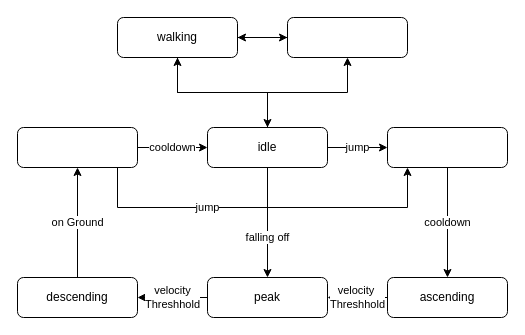
The diagram is 525 pixels wide and 335 high, and some of its shapes have lost their labels. The shapes that lost their labels are listed below. From the top down, each one's centre as x and y in pixels, then its label:
(347,37): running
(77,147): landing
(447,147): preJump
